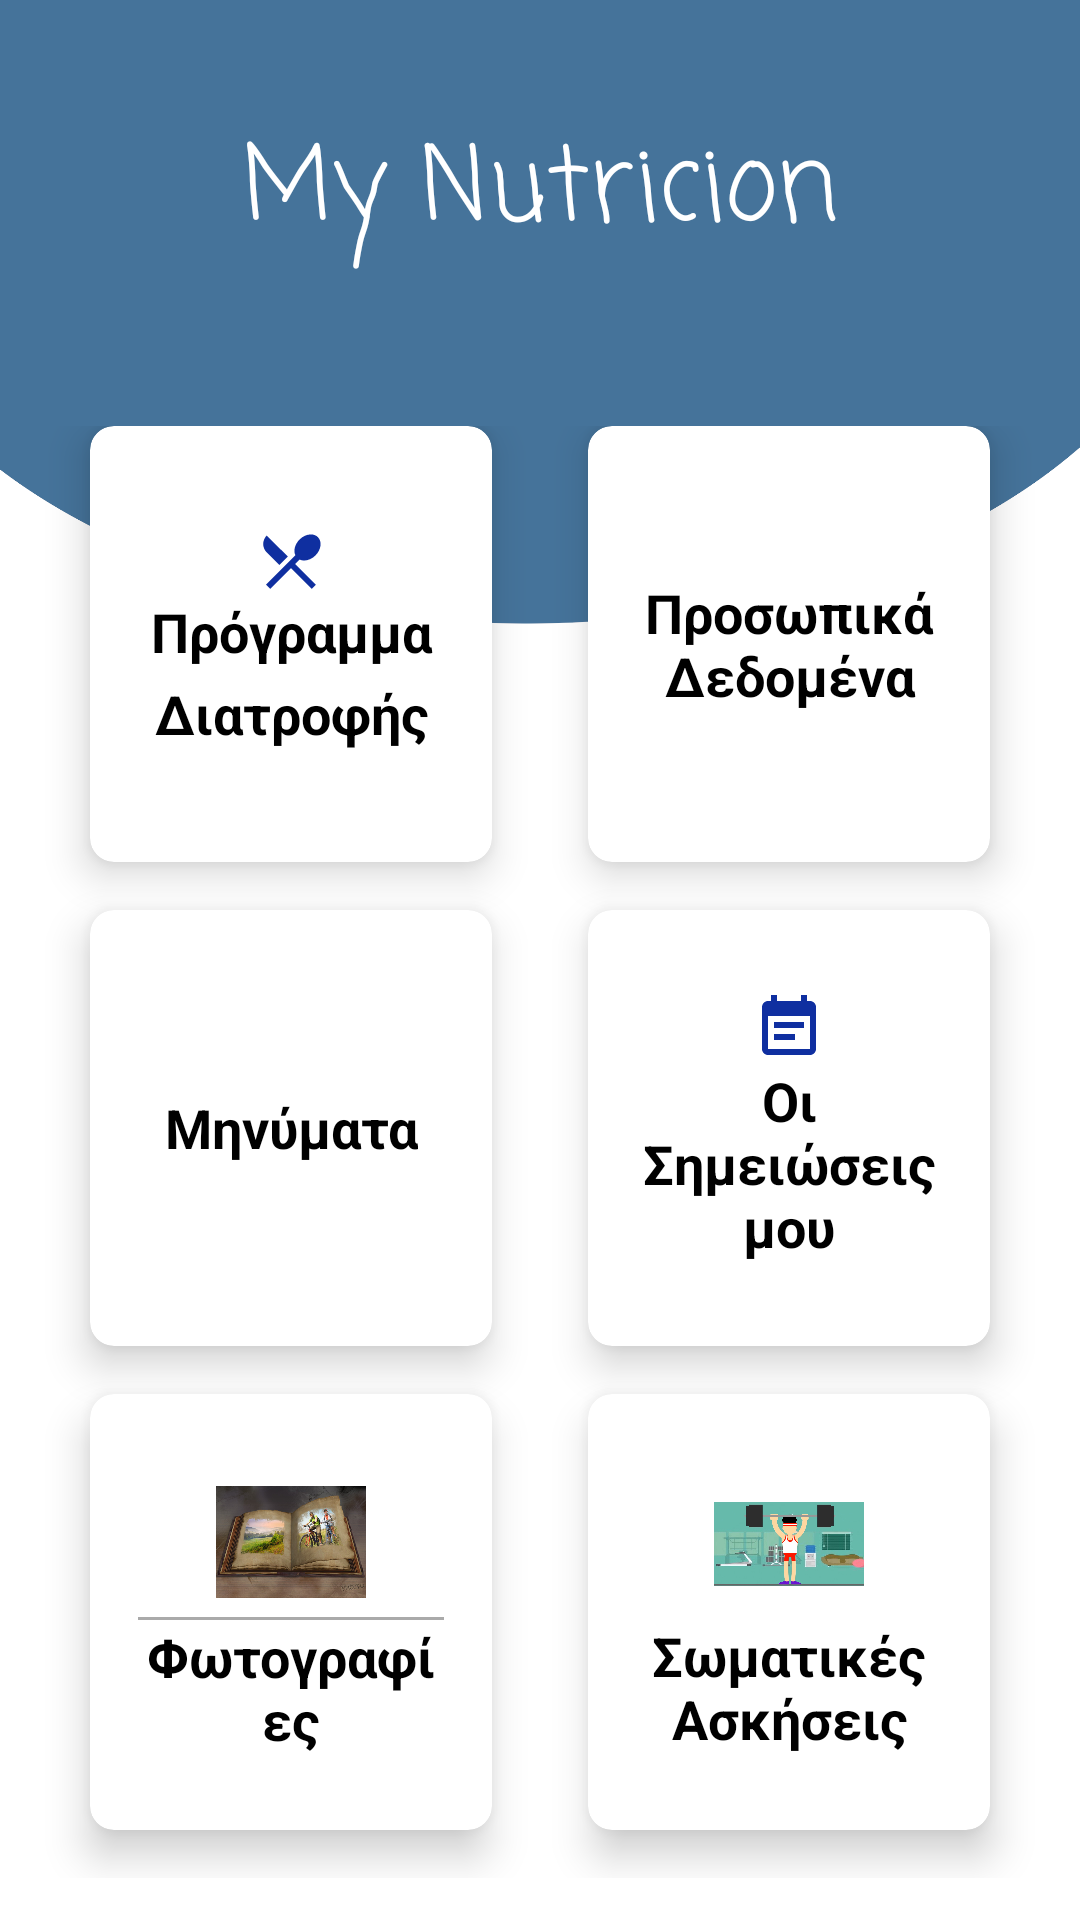

Named icons in this screenshot (1080w x 1920h) and their centers, point (x, y):
event note: point (789, 1025)
